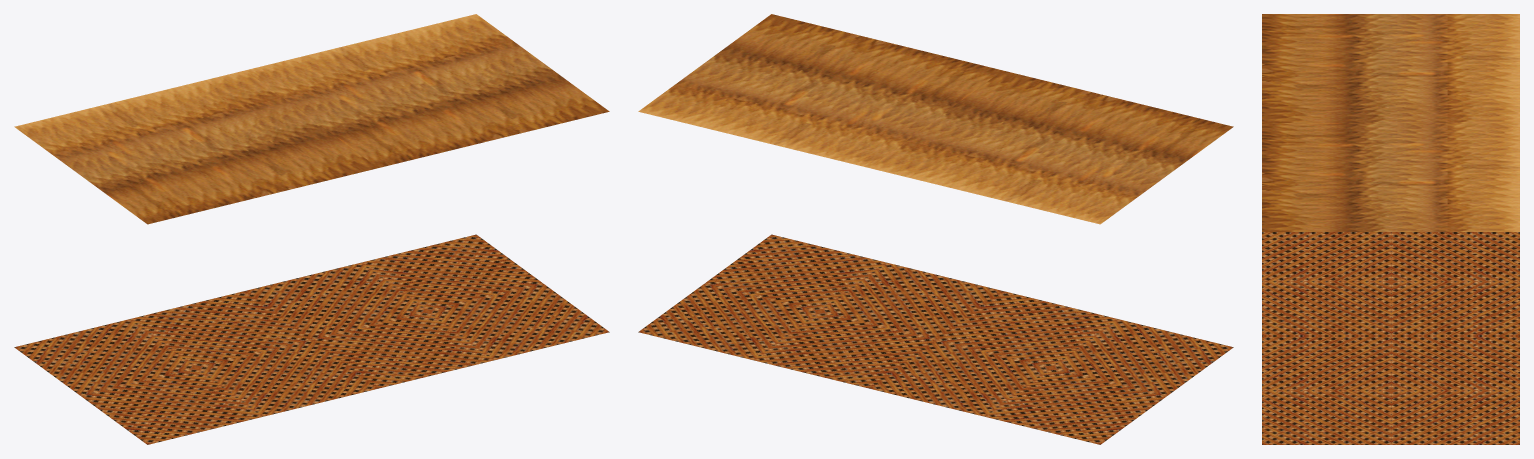
File: Kit_RoofTop_1x2.FBX
3 renders of one model, left to right at view 1: azimuth 30°, elevation 25°; view 2: azimuth 150°, elevation 25°; view 3: azimuth 270°, elevation 25°, orthographic. The views are drawn at different scales.
Parts seen in each view (by area): view 1: Kit_RoofTop_1x2; view 2: Kit_RoofTop_1x2; view 3: Kit_RoofTop_1x2.
Part boxes in pixels (x1=…): Kit_RoofTop_1x2: x1=14, y1=14, x2=609, y2=444; Kit_RoofTop_1x2: x1=638, y1=14, x2=1233, y2=444; Kit_RoofTop_1x2: x1=1262, y1=14, x2=1519, y2=444.
Bounding box in the file's own units: 4.65 × 2.32 × 2.12.
